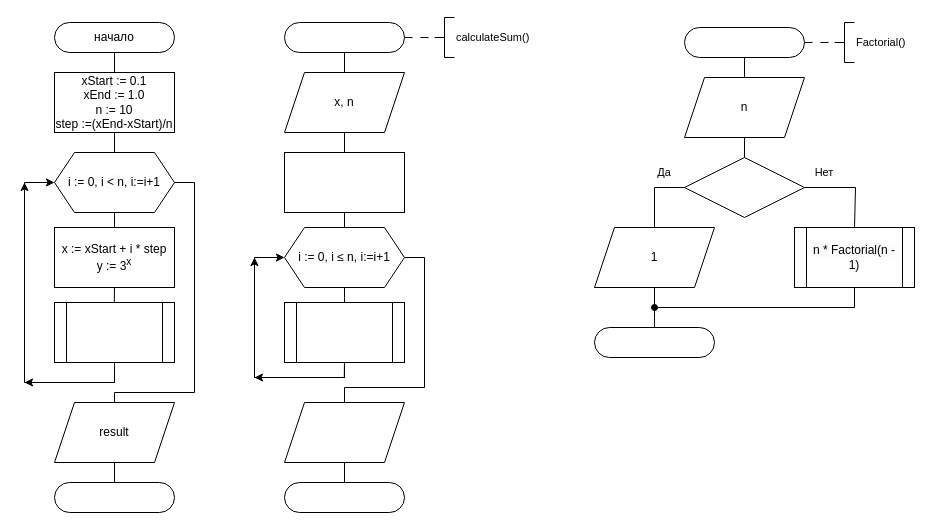
Some shapes in this 932 by 530 pixel diagram are drawn without their labels. Here are the shapes that lost their labels. From the top down, the centre of each, then its label:
point (344, 182): sum := 0
point (744, 187): n < 0
point (114, 332): result := calculateSum(x, n)
point (344, 332): sum := sum + ((ln3) i * x i ) / Factorial(i)
point (344, 432): sum
point (114, 497): конец
